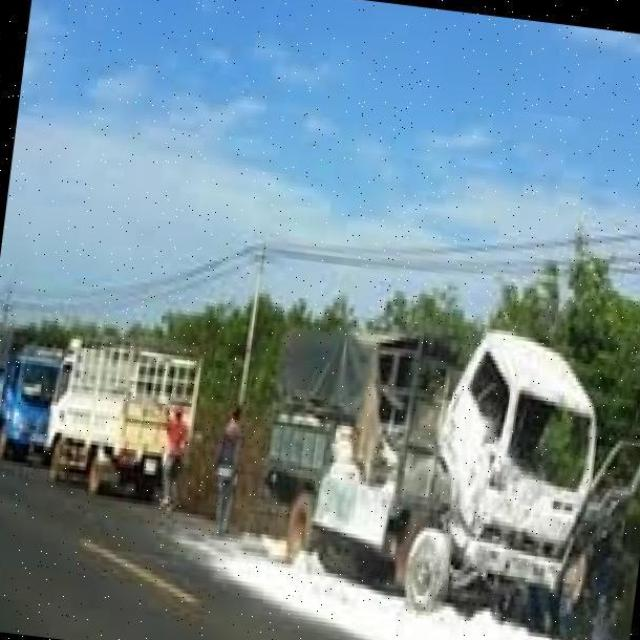accident: (409, 348, 639, 640)
